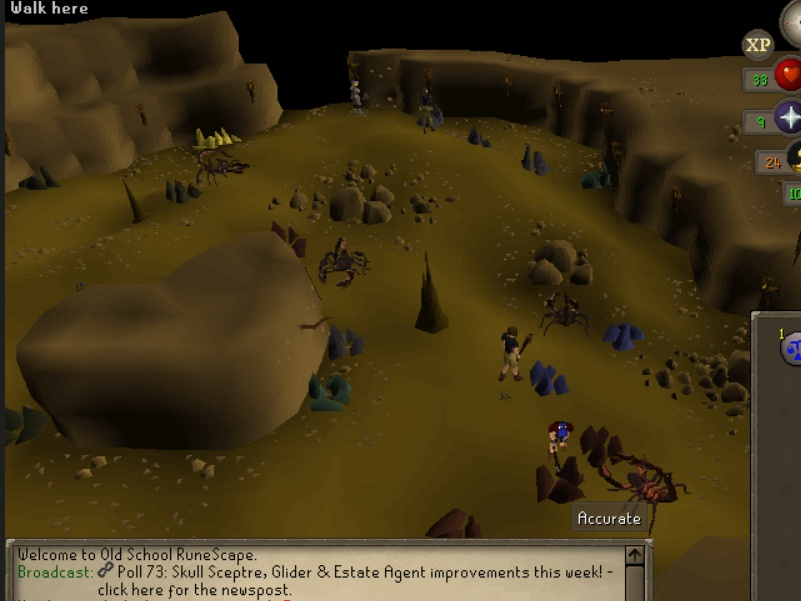adamant: (307, 368, 355, 414), (580, 162, 614, 192)
coal: (1, 400, 49, 448), (159, 176, 208, 205), (15, 164, 64, 193)
gold: (189, 127, 215, 152), (214, 125, 244, 146)
iron: (534, 451, 589, 506), (575, 421, 626, 469), (422, 505, 488, 540), (268, 214, 315, 260)
mithril: (528, 357, 580, 401), (600, 318, 654, 355)
